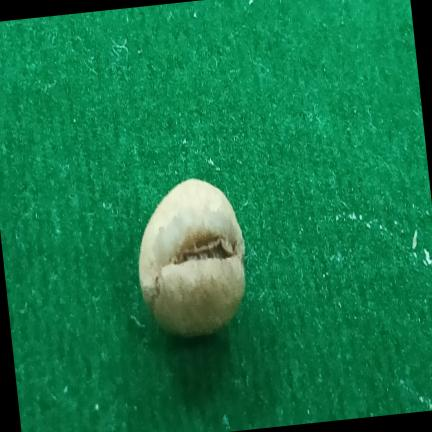cut: (139, 179, 245, 337)
